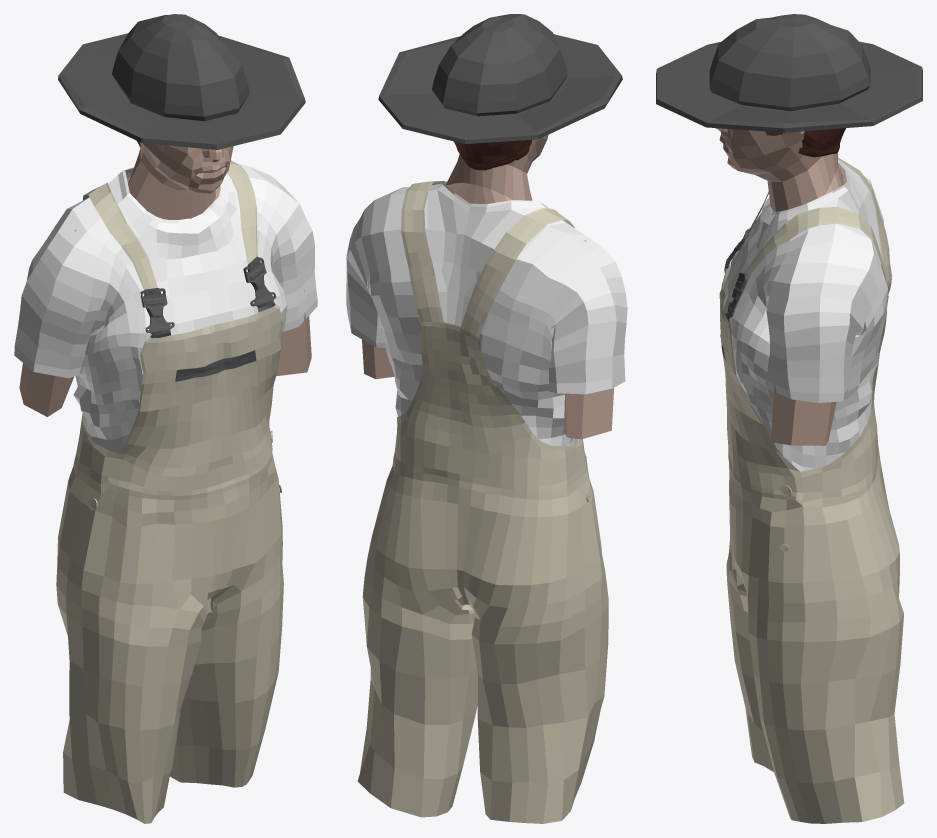
Rendered from Cuerpo.obj.
The picture shows the model from 3 angles, left to right: view 1: azimuth 30°, elevation 25°; view 2: azimuth 150°, elevation 25°; view 3: azimuth 270°, elevation 25°; orthographic projection.
Visible parts, largest first — view 1: polySurface20 polySurface18 polySurface11 polySurface4 polySurfa; view 2: polySurface20 polySurface18 polySurface11 polySurface4 polySurfa; view 3: polySurface20 polySurface18 polySurface11 polySurface4 polySurfa.
Part boxes in pixels (x1=…): polySurface20 polySurface18 polySurface11 polySurface4 polySurfa: x1=14, y1=14, x2=317, y2=823; polySurface20 polySurface18 polySurface11 polySurface4 polySurfa: x1=346, y1=14, x2=627, y2=823; polySurface20 polySurface18 polySurface11 polySurface4 polySurfa: x1=656, y1=14, x2=922, y2=823.
Size of the model in its own units: 0.4999 by 1.33 by 0.4159.
Materials: 7 (5 with a texture image).
